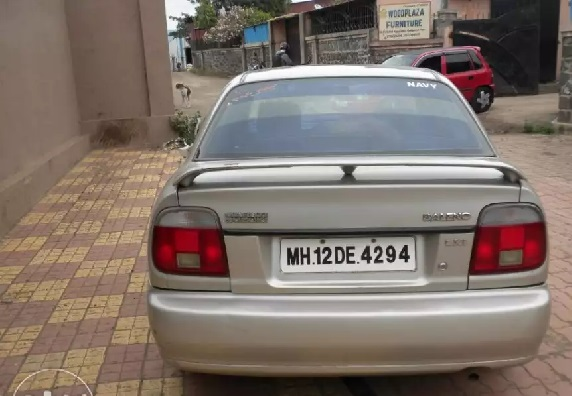licenseplate: (279, 233, 419, 273)
